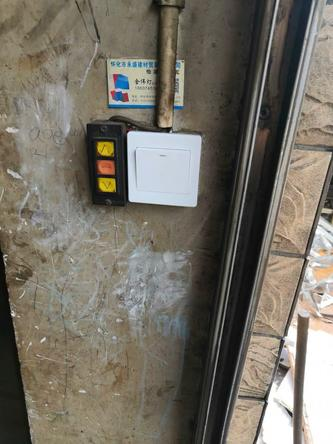switch: (131, 144, 194, 198)
